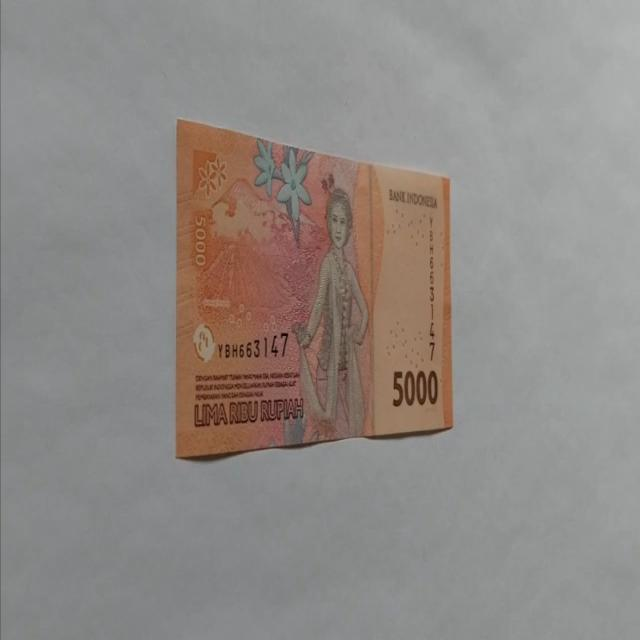lima ribu rupiah: (174, 116, 453, 458), (292, 184, 371, 443)
